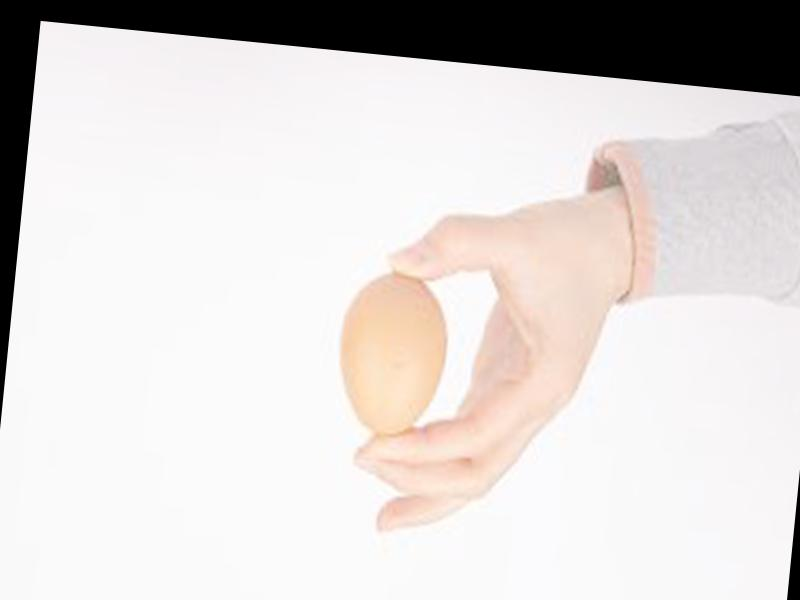Eggs: (331, 272, 449, 444)
